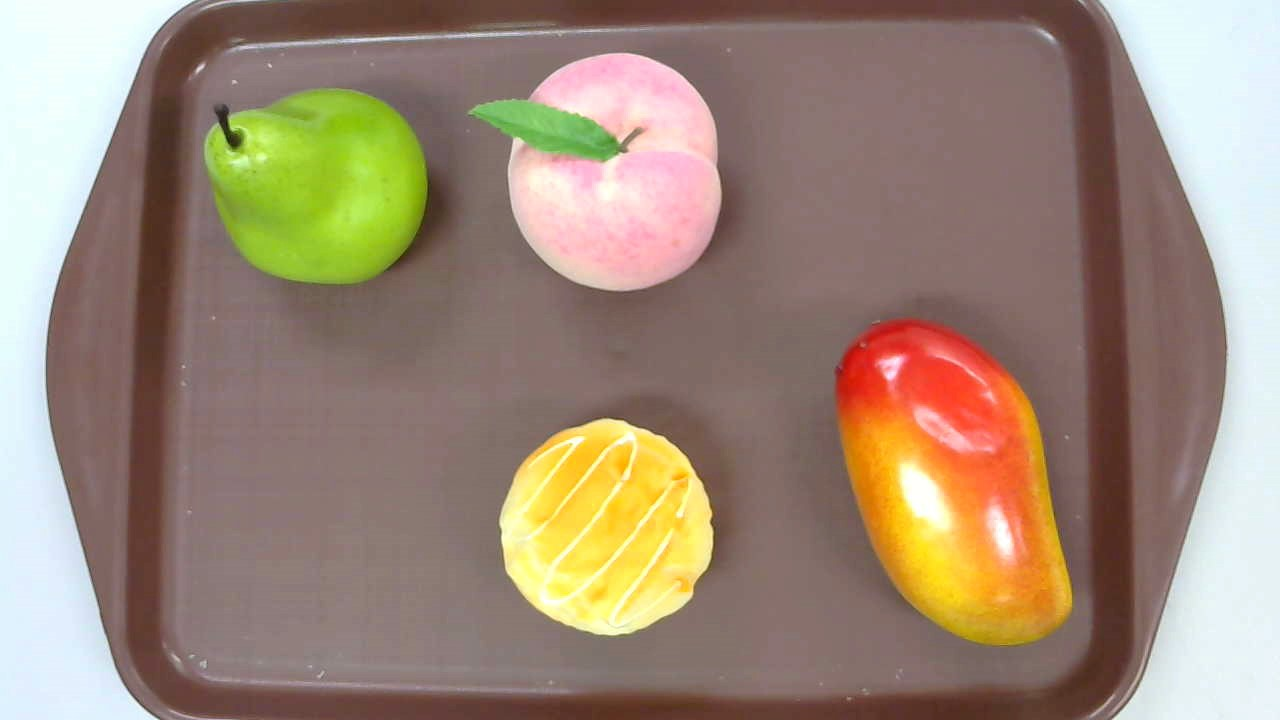cupcake: (497, 417, 716, 638)
green pear: (203, 86, 428, 284)
peach: (468, 53, 722, 295)
red mango: (836, 318, 1072, 646)
